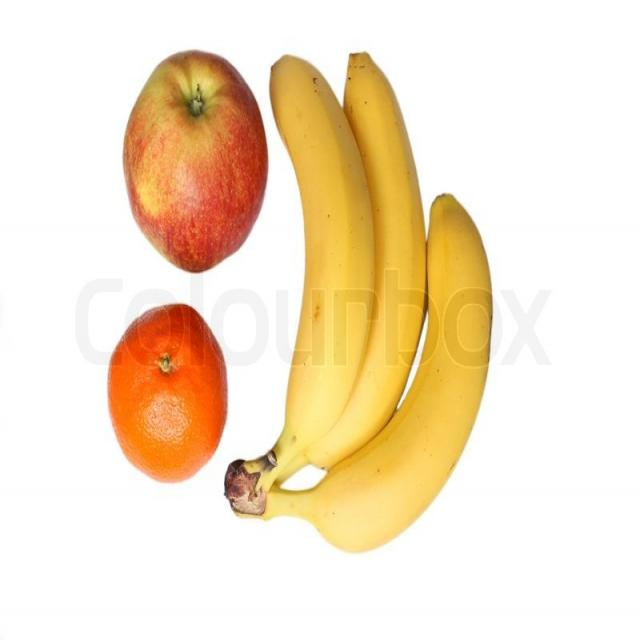apple: (122, 48, 268, 270)
banana: (223, 44, 498, 569)
orange: (100, 296, 230, 488)
